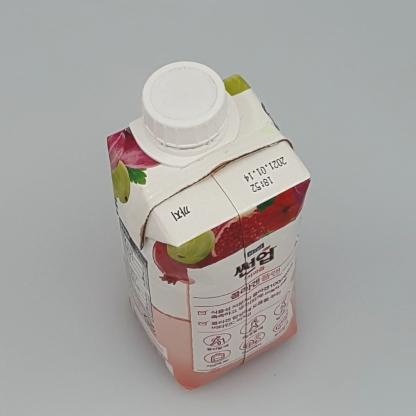--------------330ML: (107, 61, 311, 390)
